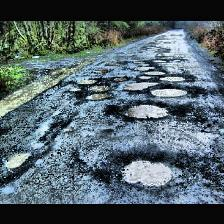pothole: (115, 150, 173, 188), (123, 102, 169, 118), (3, 149, 30, 167), (149, 86, 189, 96), (84, 91, 112, 99), (159, 74, 186, 82), (144, 69, 166, 75), (77, 77, 97, 83), (90, 84, 108, 90), (134, 65, 154, 69), (112, 76, 128, 80), (152, 58, 166, 62), (68, 86, 82, 90)
